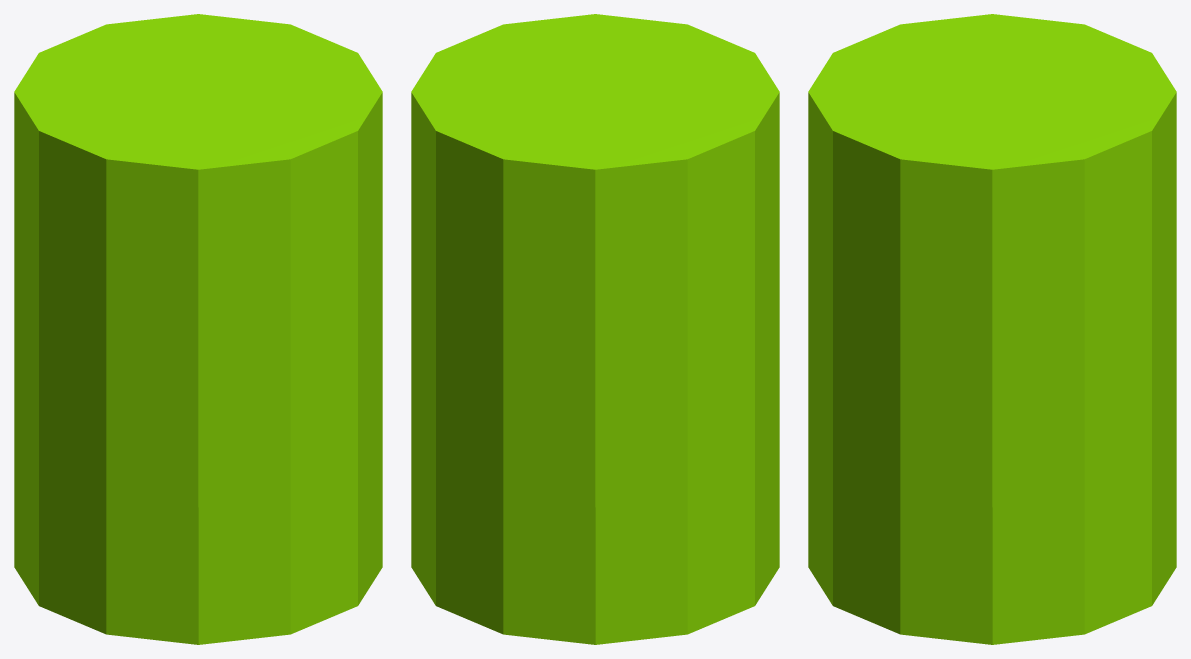
File: Wall_Pillar_01_Half.fbx
3 views of the same model, side by side, from view 1: azimuth 30°, elevation 25°; view 2: azimuth 150°, elevation 25°; view 3: azimuth 270°, elevation 25° (orthographic).
Visible parts, largest first — view 1: Wall_Pillar_01_Half; view 2: Wall_Pillar_01_Half; view 3: Wall_Pillar_01_Half.
Part boxes in pixels (left/top/right/bottom): Wall_Pillar_01_Half: left=14, top=14, right=382, bottom=644; Wall_Pillar_01_Half: left=411, top=14, right=779, bottom=644; Wall_Pillar_01_Half: left=808, top=14, right=1176, bottom=644.
Size of the model in its own units: 227 by 324 by 227.
